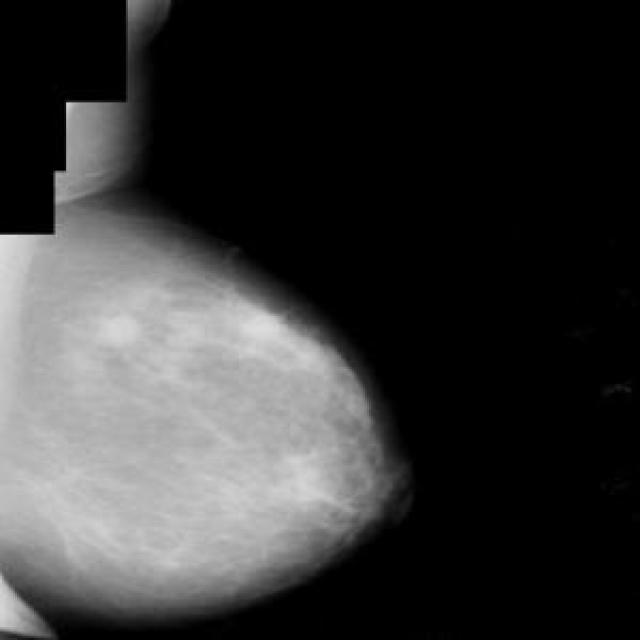tumor: (86, 279, 328, 382), (264, 438, 359, 526)
